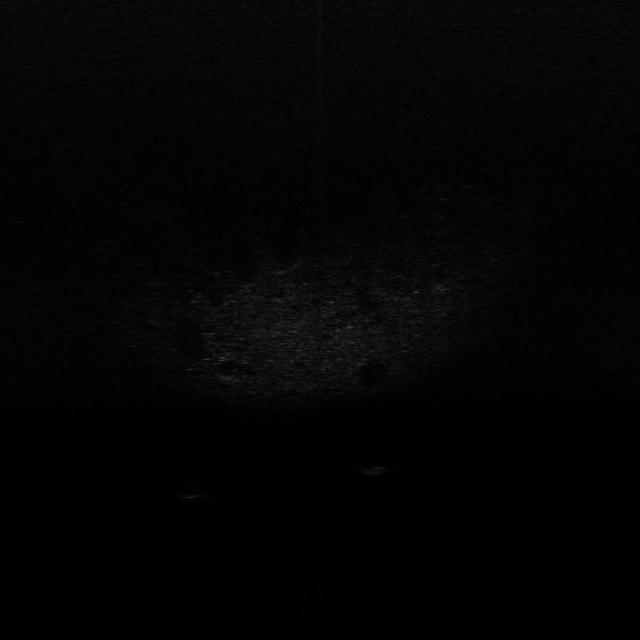ball: (173, 478, 209, 500)
cube: (360, 460, 386, 478)
